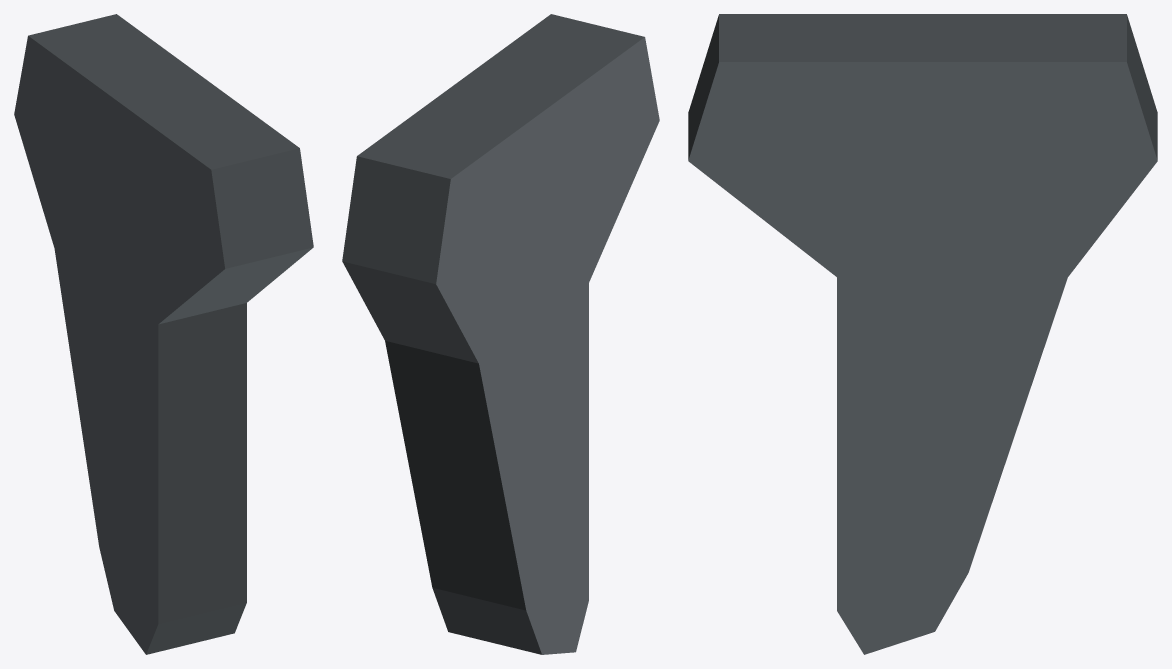
The model's file is MW1_Trigger_02.fbx.
3 renders of one model, left to right at view 1: azimuth 30°, elevation 25°; view 2: azimuth 150°, elevation 25°; view 3: azimuth 270°, elevation 25°, orthographic. The views are drawn at different scales.
Visible parts, largest first — view 1: Trigger_02; view 2: Trigger_02; view 3: Trigger_02.
Part boxes in pixels (x1=…): Trigger_02: x1=14, y1=14, x2=313, y2=654; Trigger_02: x1=342, y1=14, x2=659, y2=654; Trigger_02: x1=688, y1=14, x2=1157, y2=654.
Size of the model in its own units: 0.6 by 3.45 by 2.47.
